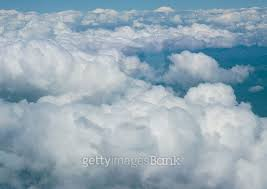sky: (2, 2, 266, 189)
